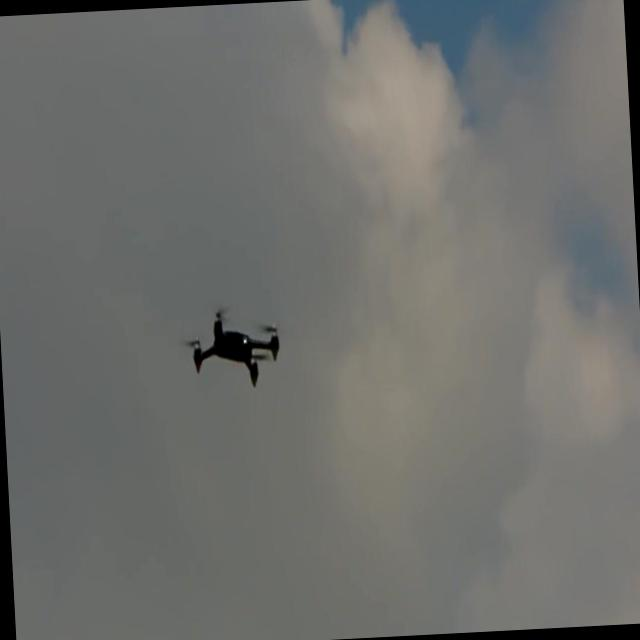drone: (190, 304, 284, 398)
